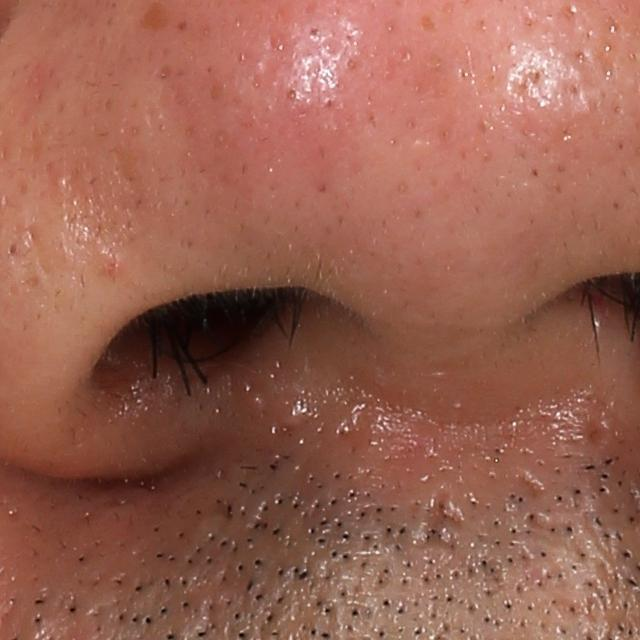atrophic_scar: (426, 495, 469, 543), (511, 472, 540, 501)
melasma: (136, 1, 169, 30)
